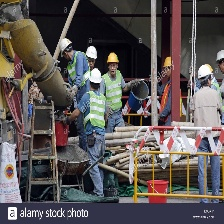helmet: (196, 65, 212, 78), (89, 69, 102, 84), (58, 39, 71, 52), (106, 52, 118, 62)
person: (194, 64, 221, 200), (85, 65, 108, 200), (57, 37, 91, 100), (104, 51, 126, 129)
vest: (88, 92, 106, 132), (104, 75, 124, 110)
